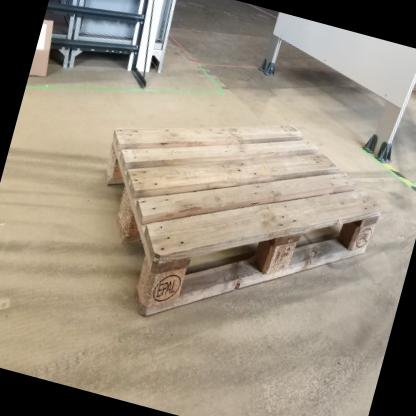BoxFace: (101, 120, 382, 327)
